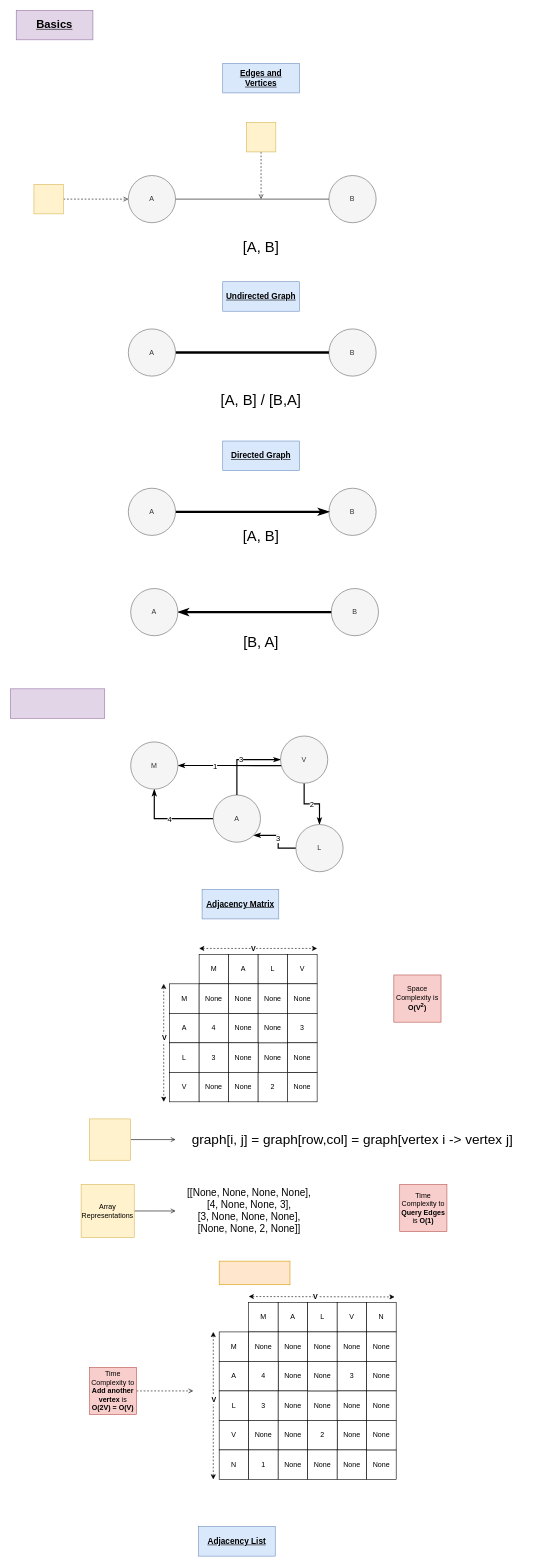
This 540x1566 diagram has some shape labels left out. Here are the shapes that lost their labels. From the top down, the box of each, then its label:
(246, 122, 276, 152): Edge
(33, 184, 63, 214): Vertices
(10, 688, 105, 718): Graph Representation
(89, 1118, 131, 1160): Querying Edges
(219, 1261, 290, 1285): Add another vertex
